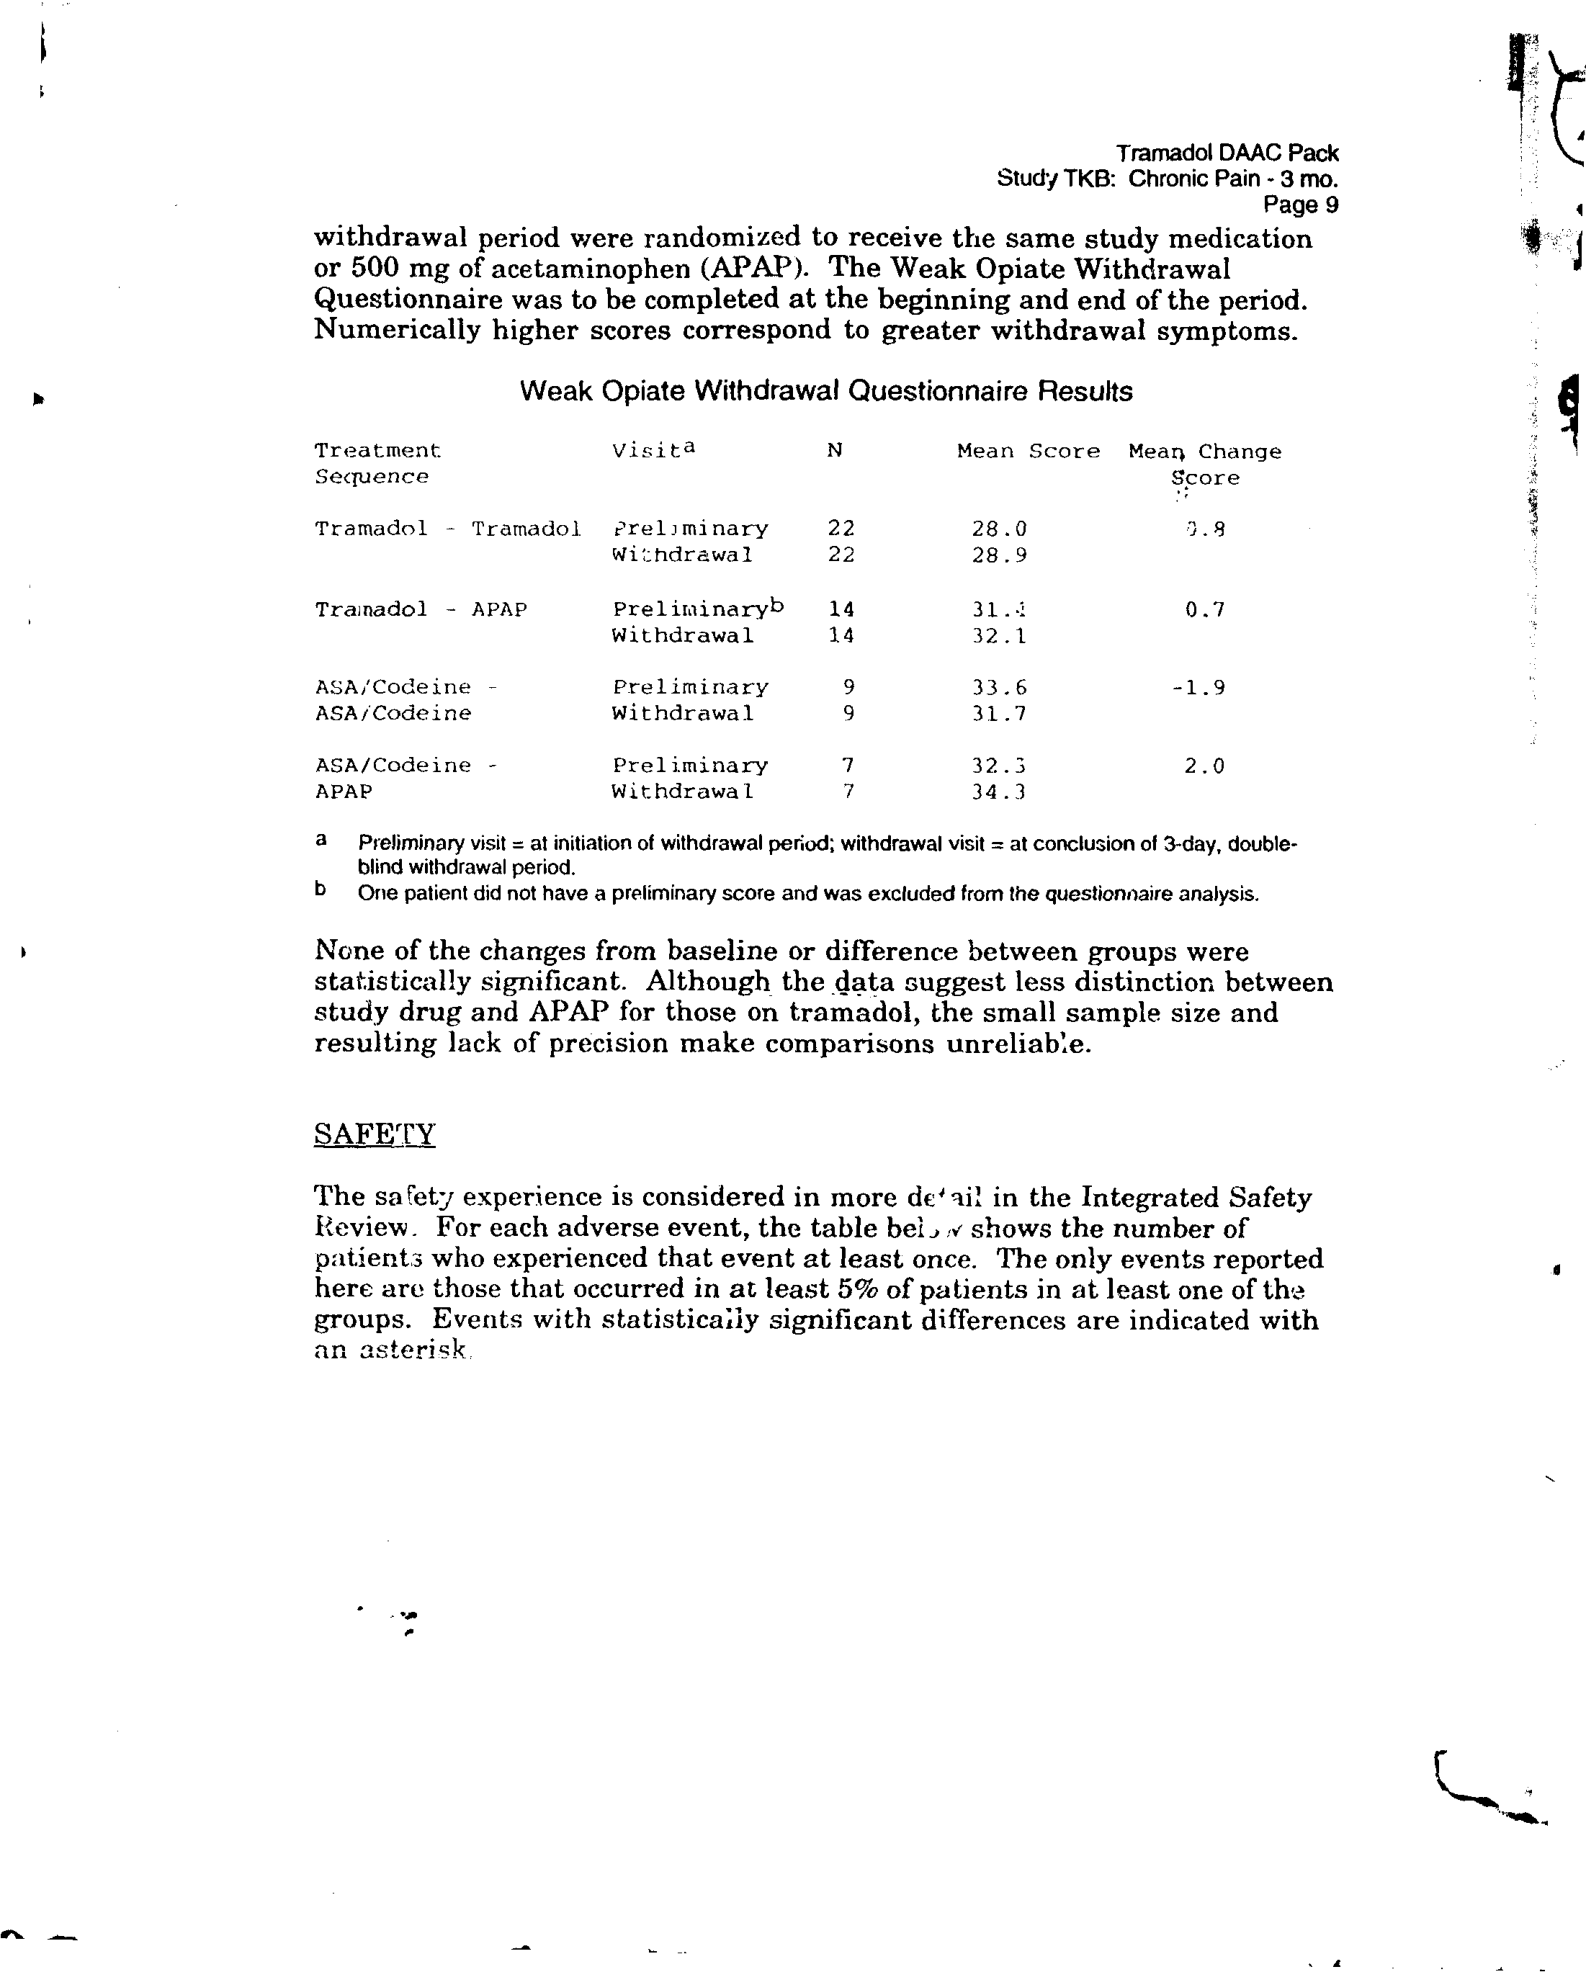nolines: (309, 435, 1283, 806)
